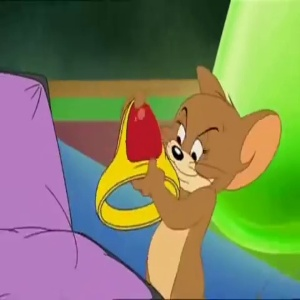Jerry: (166, 59, 282, 194)
